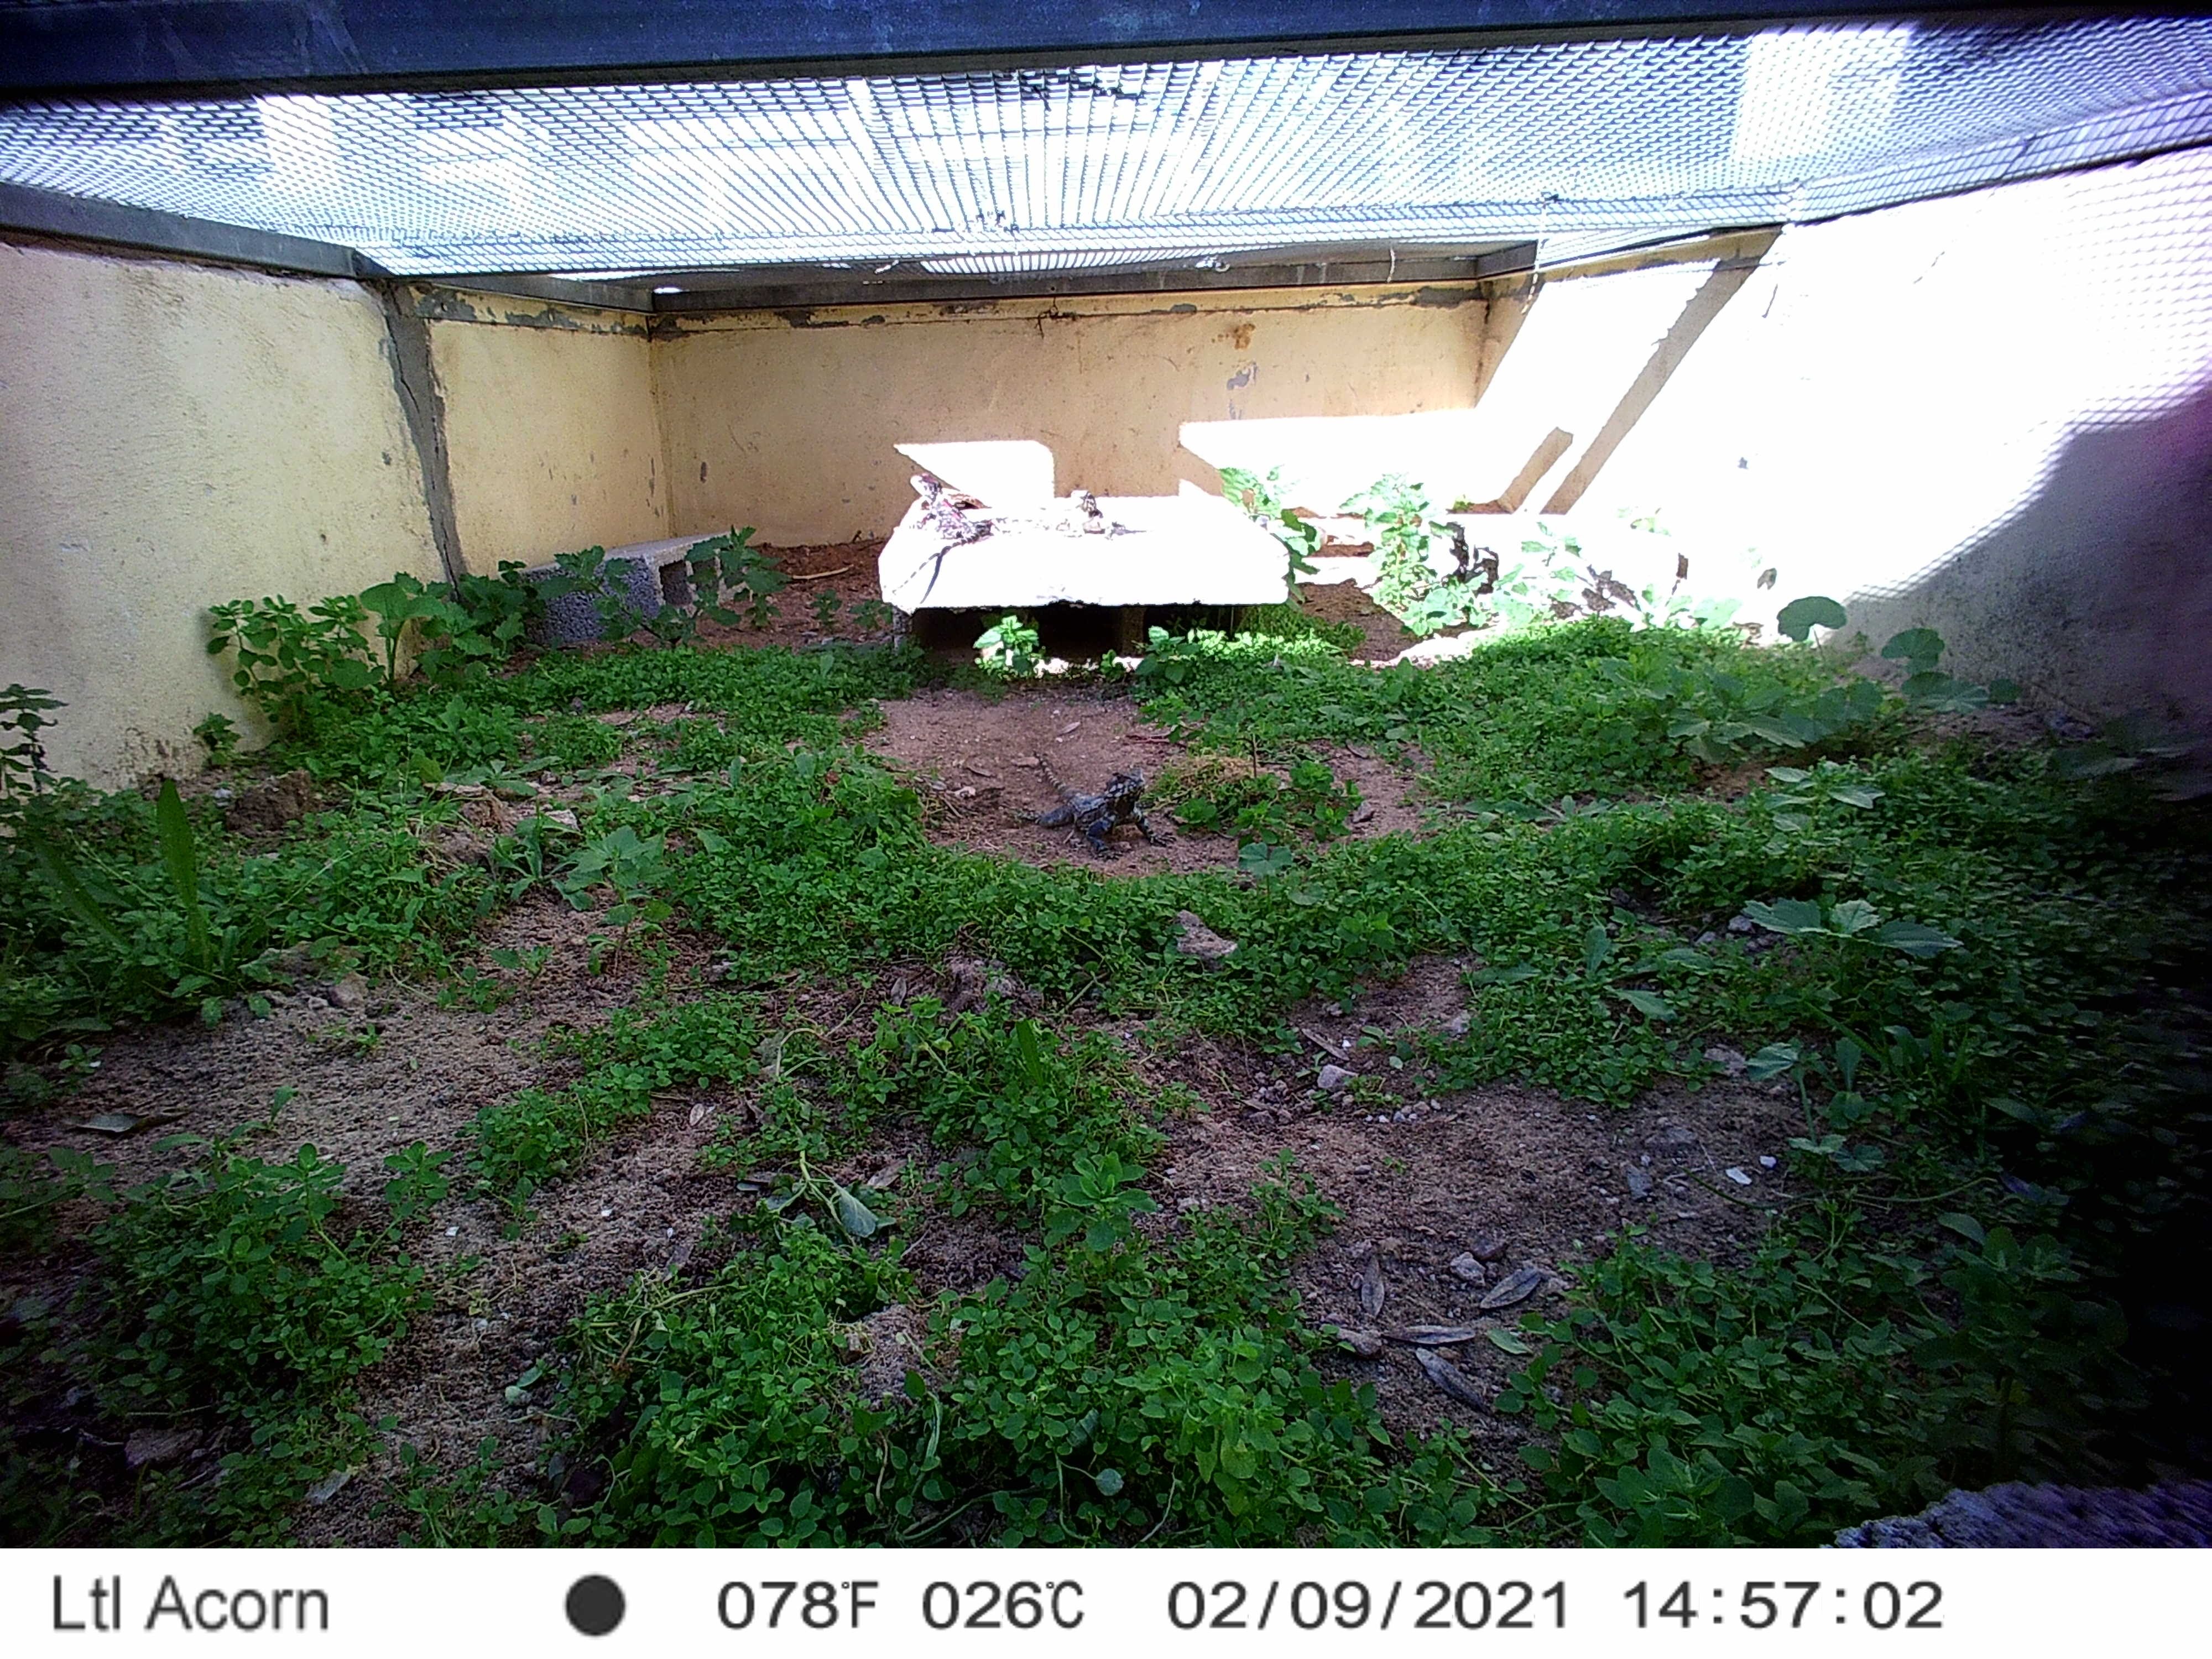lizard: (996, 742, 1177, 861), (887, 471, 1003, 587), (1017, 488, 1144, 542)
